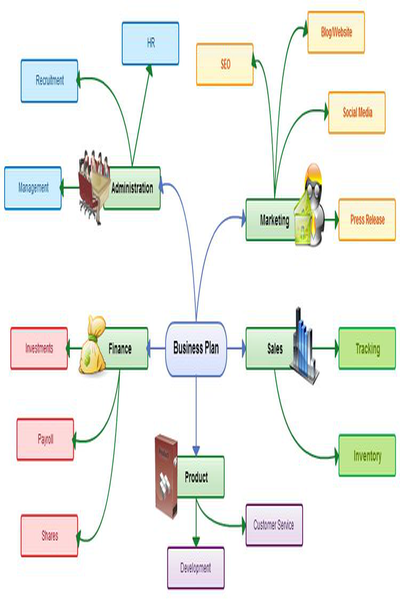arrow: (80, 371, 128, 547), (270, 368, 338, 465), (196, 212, 245, 322), (275, 23, 306, 193), (275, 104, 329, 201), (162, 177, 198, 320), (78, 72, 133, 165), (75, 369, 118, 445), (253, 57, 275, 198), (135, 63, 152, 166), (196, 499, 246, 531), (190, 498, 204, 547), (310, 337, 340, 358), (70, 337, 86, 361), (322, 212, 339, 233)
idea: (167, 321, 226, 378), (7, 326, 69, 371), (3, 165, 61, 213), (19, 57, 78, 104), (335, 198, 397, 242), (165, 544, 224, 590), (121, 20, 180, 66), (337, 433, 397, 477), (307, 9, 364, 55), (16, 417, 75, 461), (105, 164, 161, 210), (339, 327, 396, 370), (21, 513, 78, 556), (244, 505, 303, 546), (328, 90, 384, 133), (196, 43, 253, 85), (95, 328, 148, 371), (172, 455, 224, 498), (244, 327, 295, 370), (246, 200, 301, 239)
